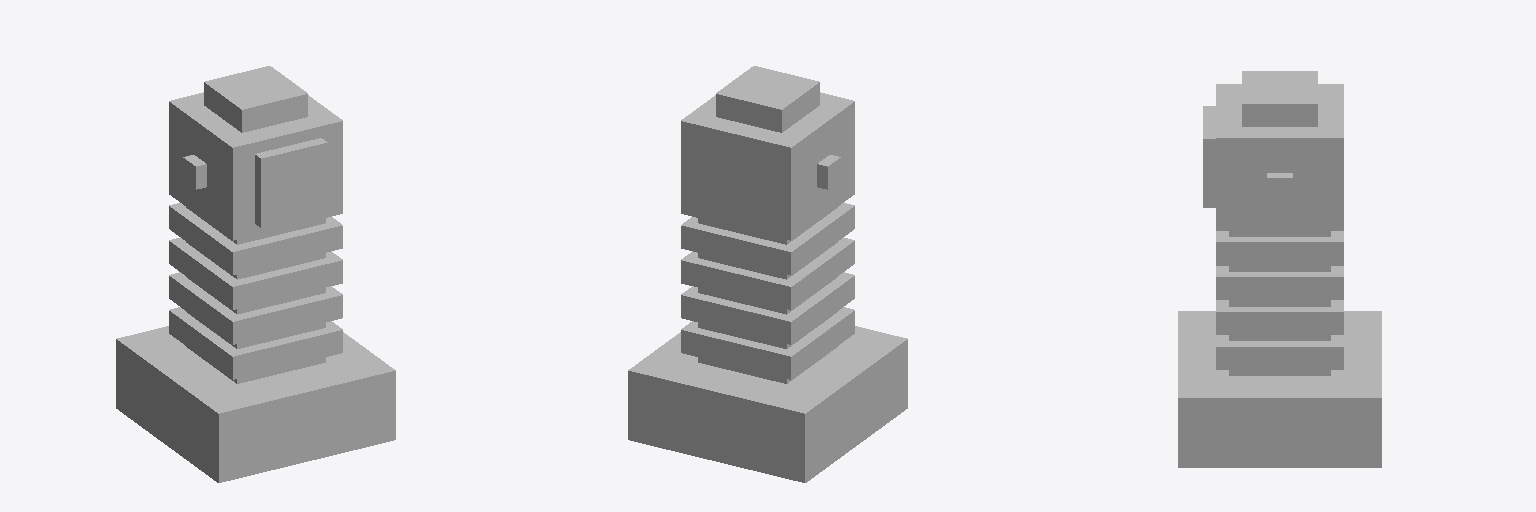
Rendered from eMeter.obj.
The picture shows the model from 3 angles: view 1: azimuth 30°, elevation 25°; view 2: azimuth 150°, elevation 25°; view 3: azimuth 270°, elevation 25°; orthographic projection.
Parts seen in each view (by area): view 1: base; view 2: base; view 3: base.
Part boxes in pixels (left/top/right/bottom): base: left=116, top=66, right=395, bottom=482; base: left=628, top=66, right=907, bottom=482; base: left=1178, top=71, right=1381, bottom=467.
Size of the model in its own units: 1 by 1.81 by 1.